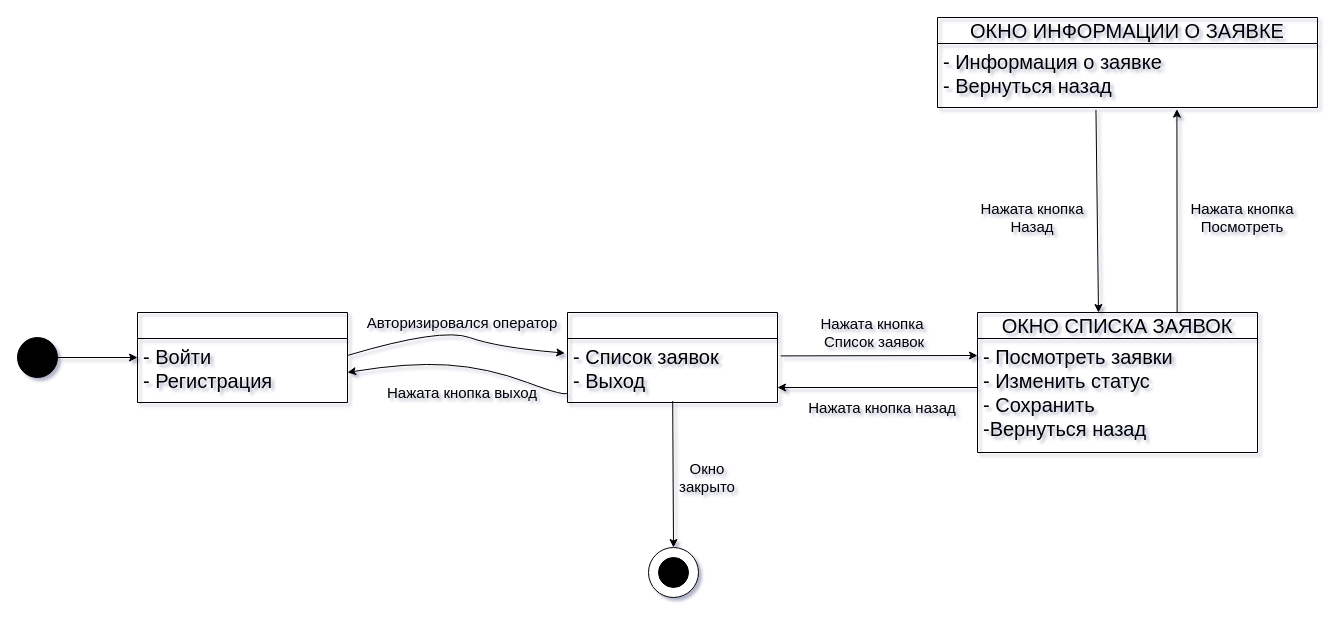
Some shapes in this 1341 by 621 pixel diagram are drawn without their labels. Here are the shapes that lost their labels. From the top down, the box of each, then its label:
(136, 312, 348, 402): АВТОРИЗАЦИЯ
(566, 312, 778, 402): ОКНО ОПЕРАТОРА
